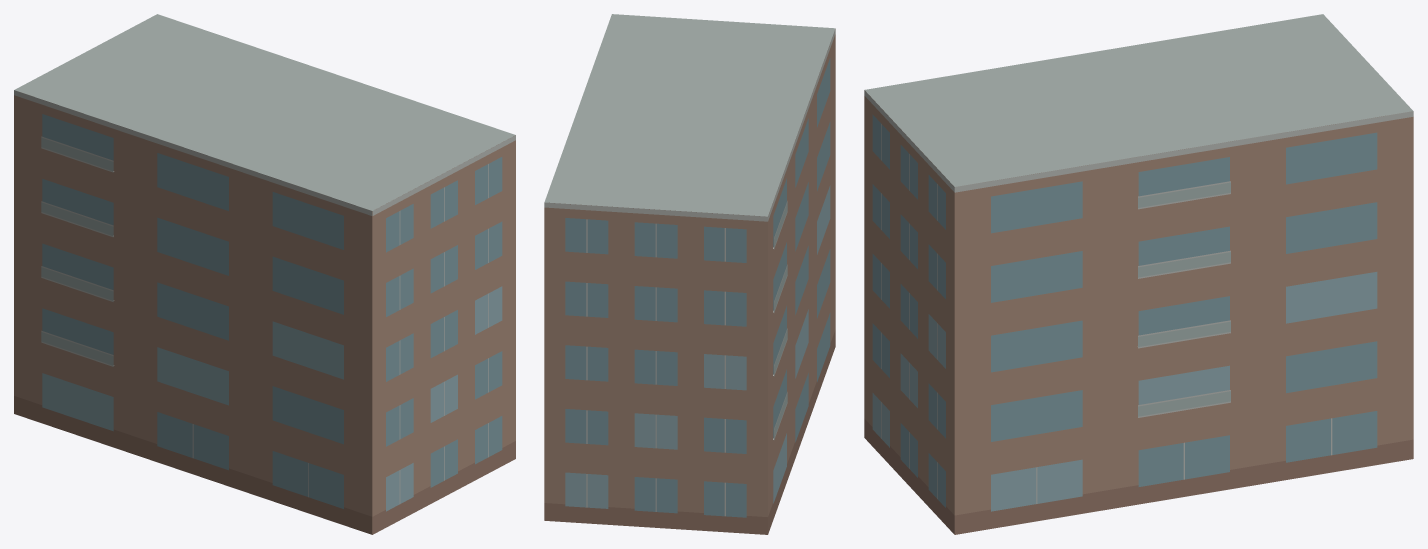
File: survey-upis-32849396.glb
The picture shows the model from 3 angles, left to right: view 1: azimuth 30°, elevation 25°; view 2: azimuth 150°, elevation 25°; view 3: azimuth 270°, elevation 25°; orthographic projection. The views are drawn at different scales.
Visible parts, largest first — view 1: survey-upis-32849396.tmp; view 2: survey-upis-32849396.tmp; view 3: survey-upis-32849396.tmp.
Boxes of the visible parts, box(x1,y1,x2,y2) form: survey-upis-32849396.tmp: box(14, 14, 515, 534); survey-upis-32849396.tmp: box(544, 14, 835, 534); survey-upis-32849396.tmp: box(864, 14, 1413, 534).
Bounding box in the file's own units: 16.28 × 15.25 × 21.83.
